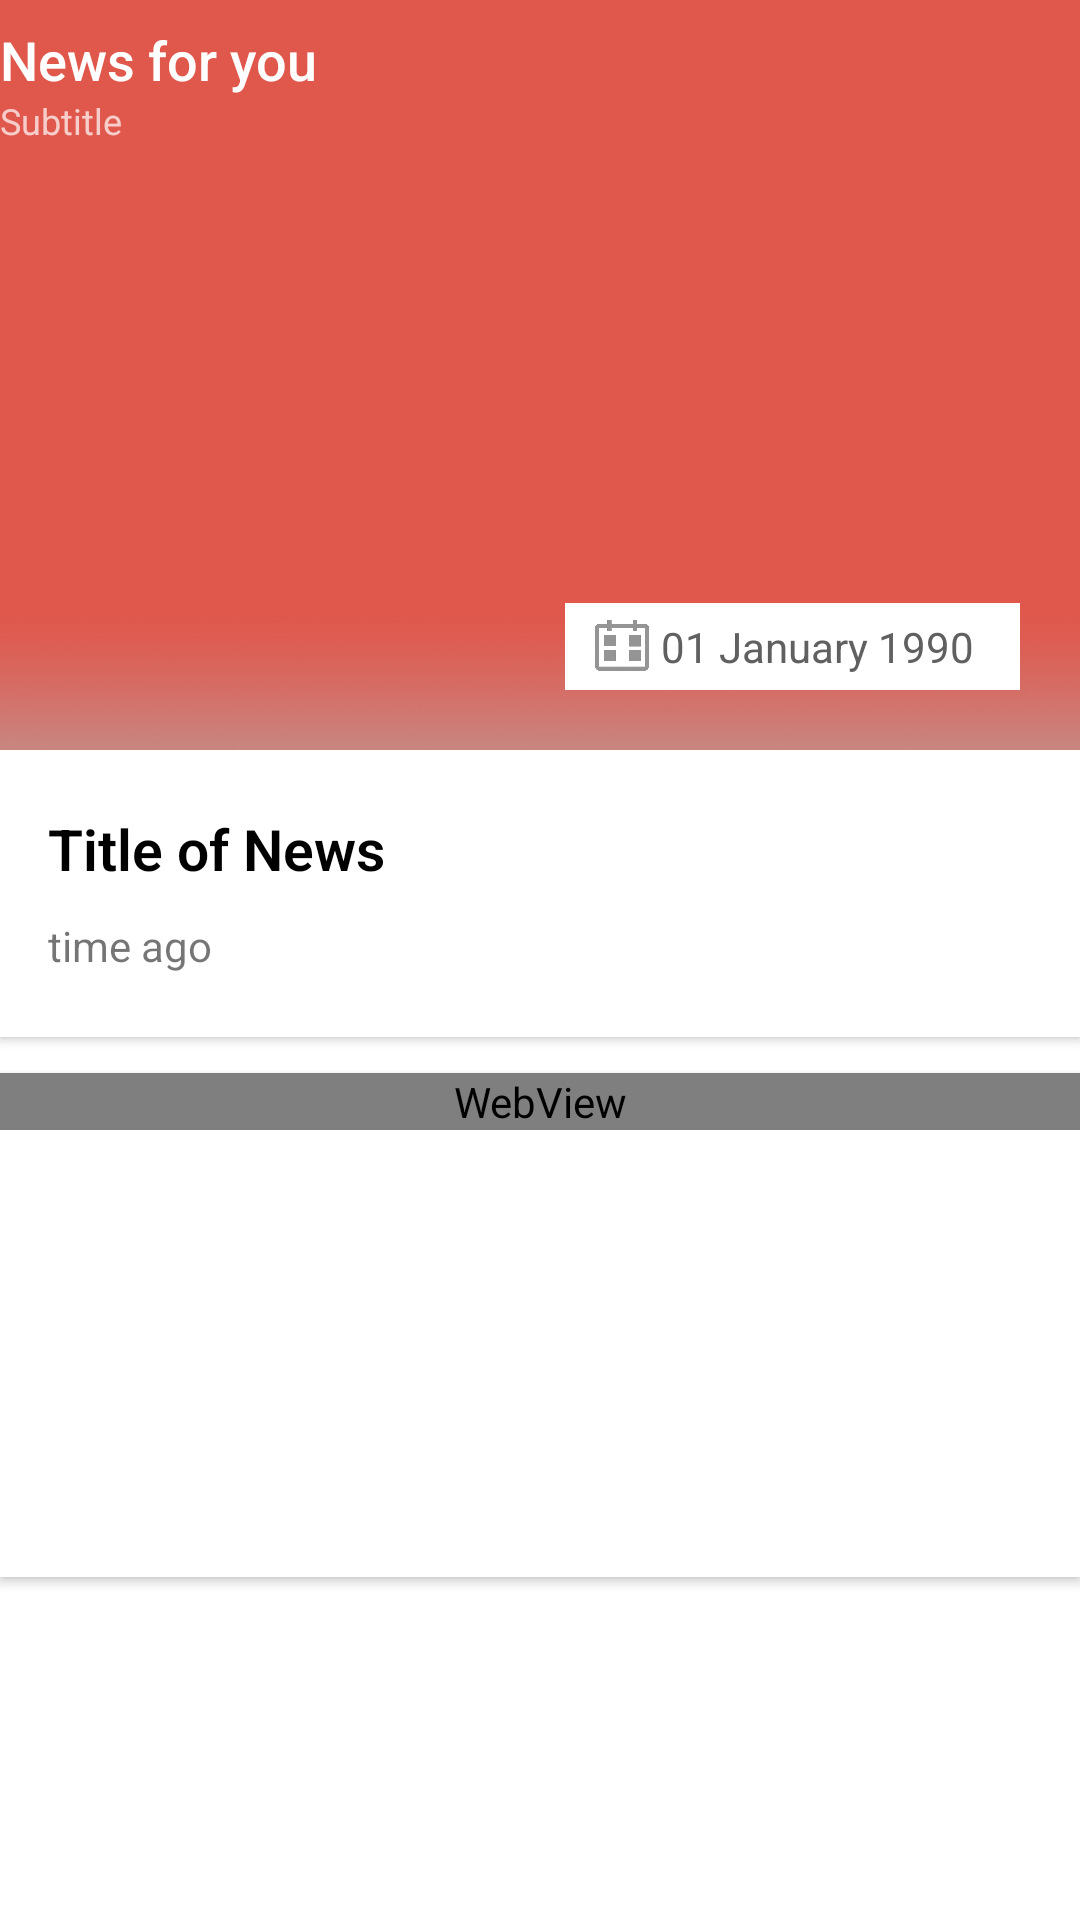

Icon bounding boxes for this 1080x1920 phone screenshot, format (x1, y1, x2, y2):
date: (595, 620, 649, 671)
